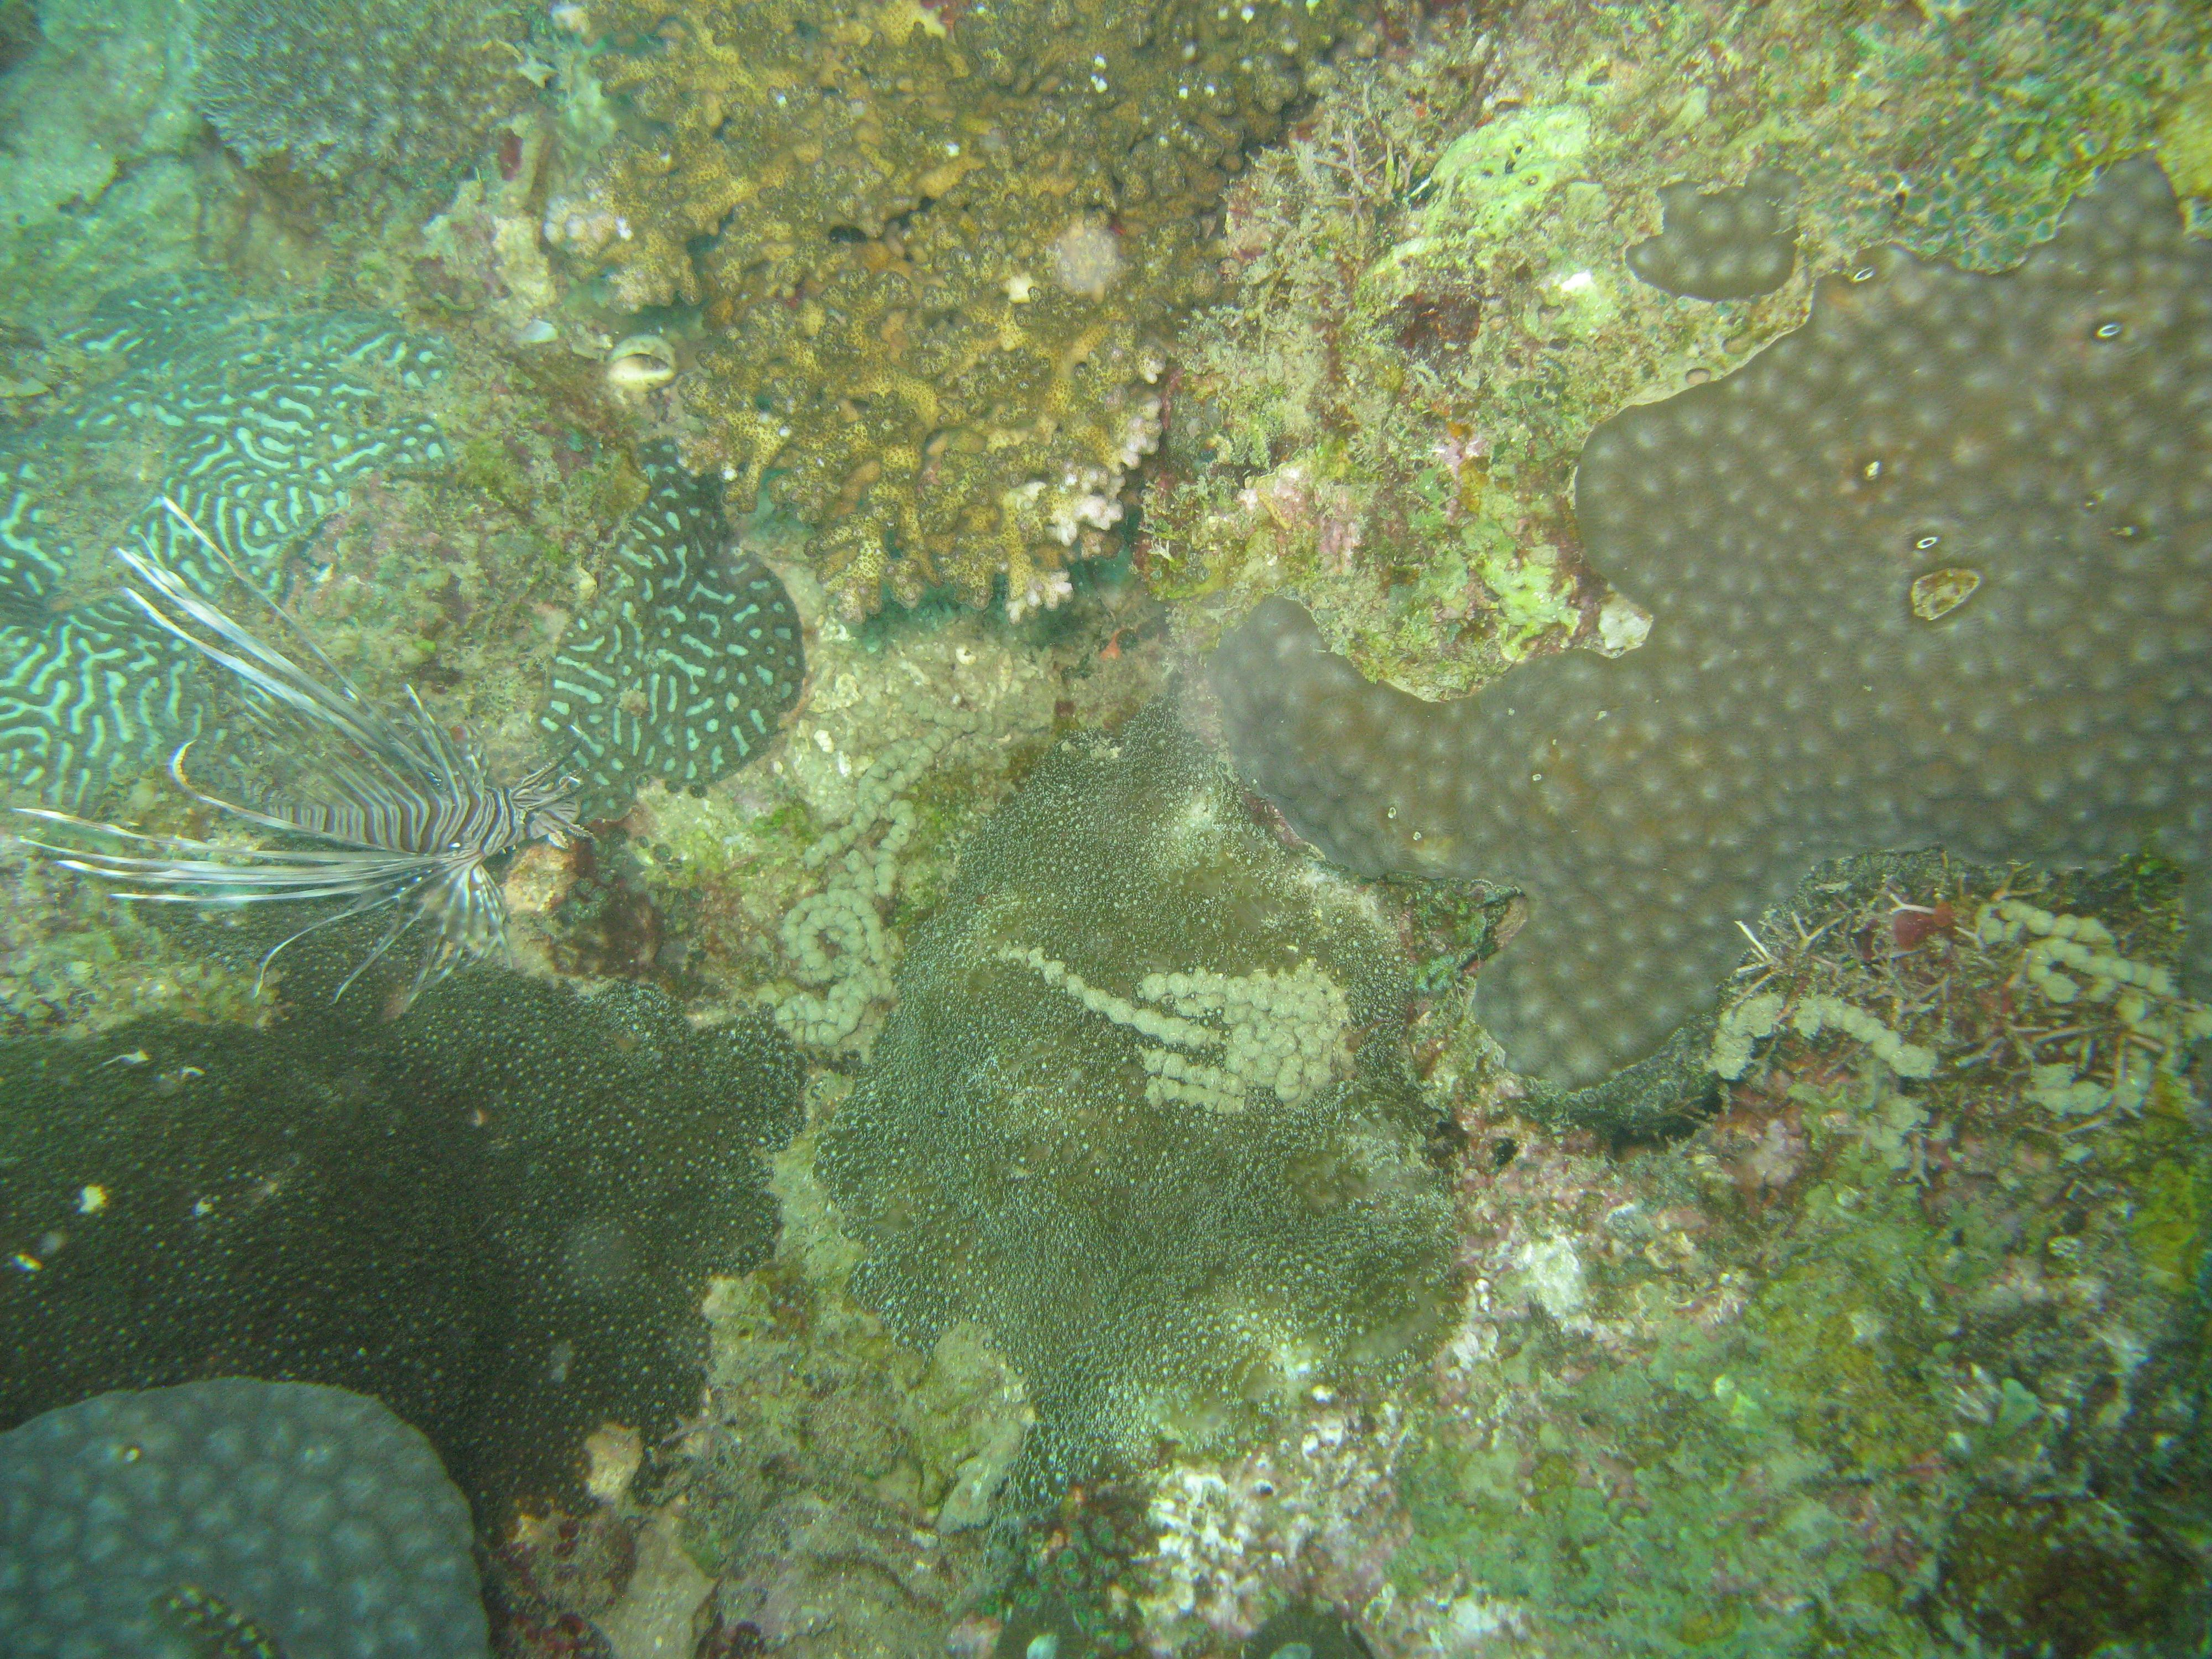Fish: (17, 495, 639, 1000)
